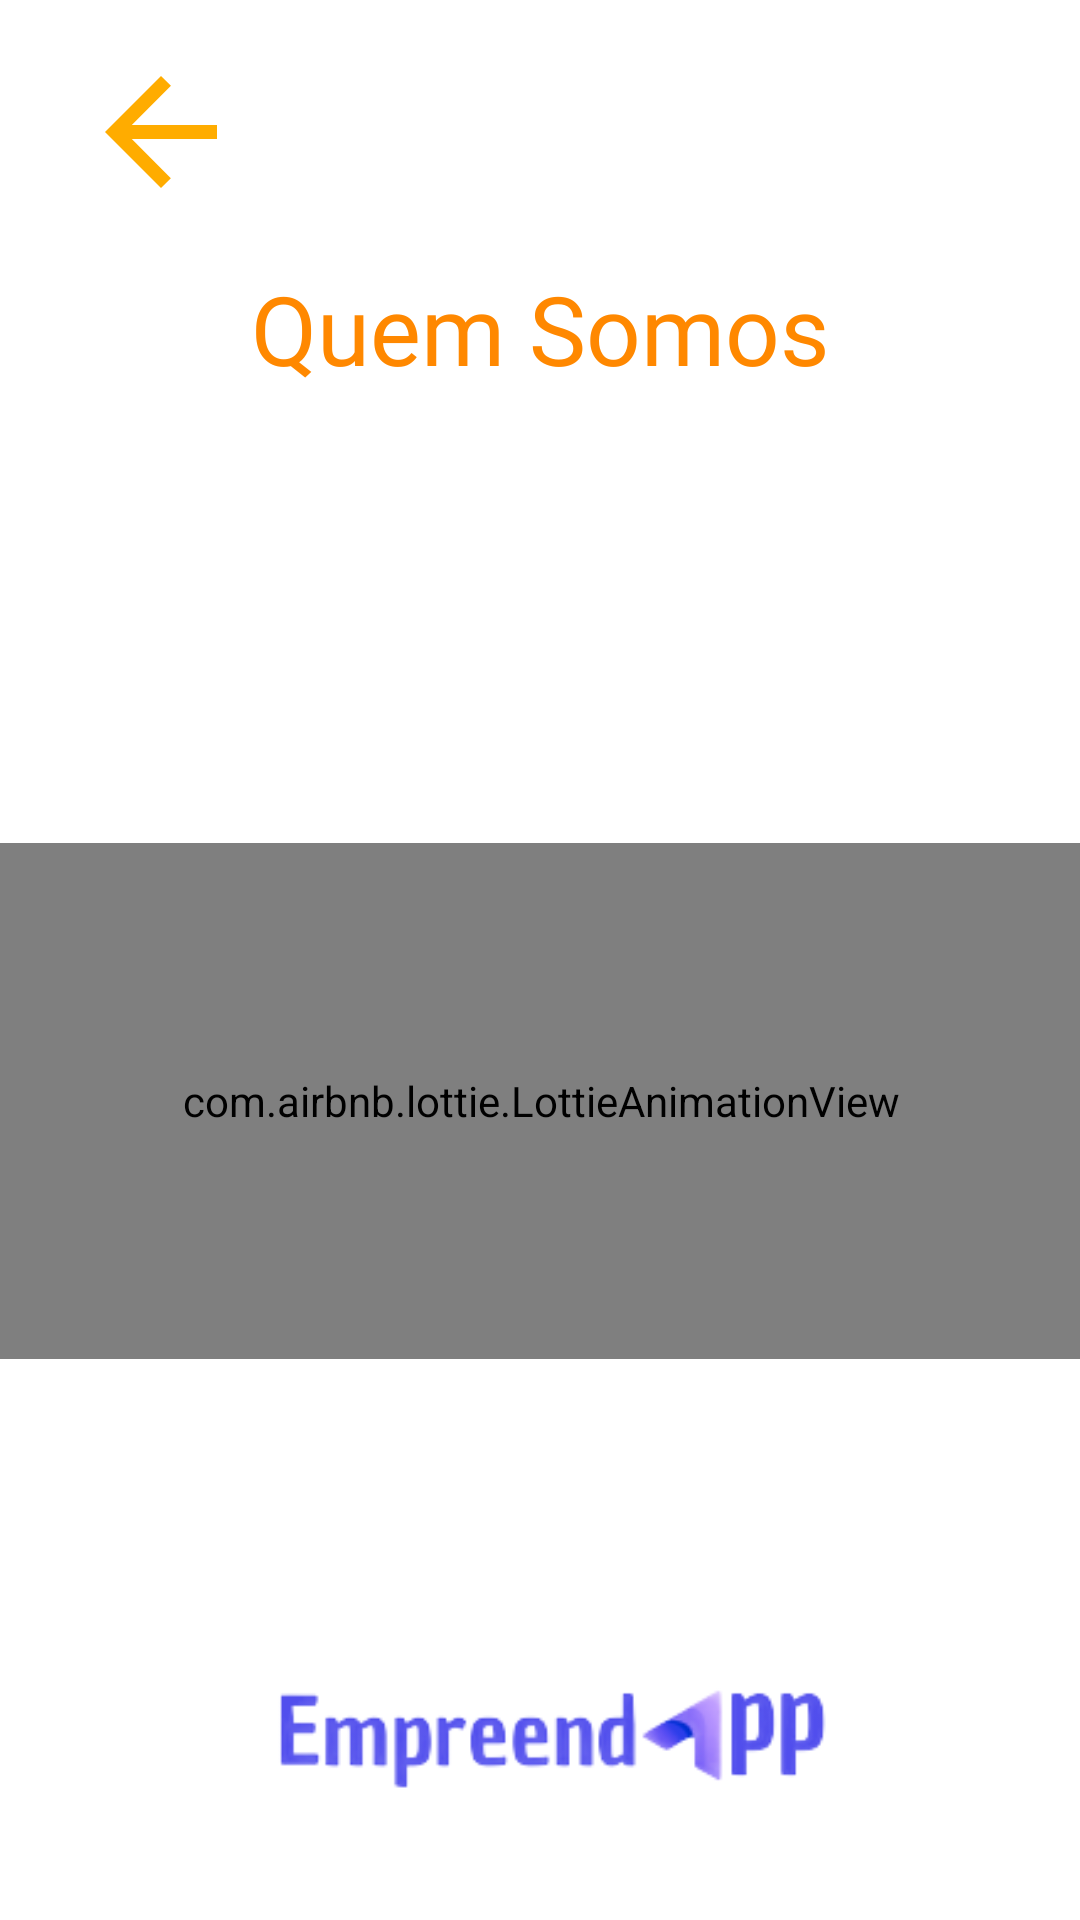

Icons on this 1080px x 1920px Android screen, each with the point to tap as [x,y]:
botaovoltar: [161,132]
